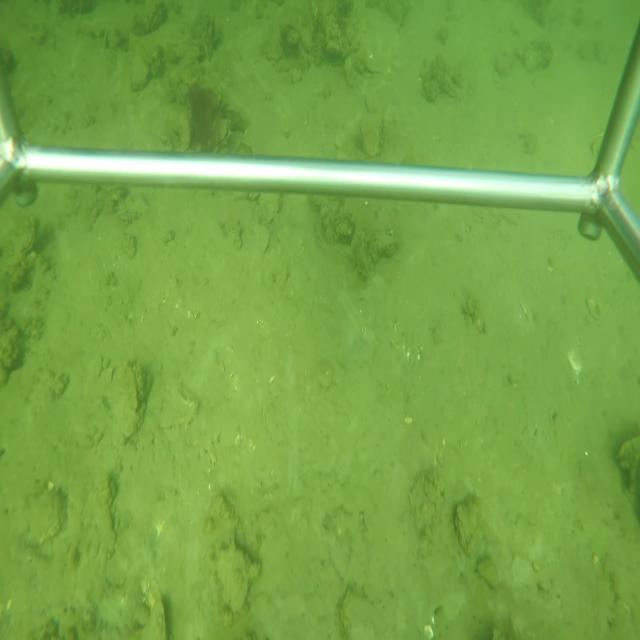Oyster-Closed: (451, 493, 484, 561), (358, 108, 386, 159)
Oyster-Indeterminate: (215, 545, 253, 618), (118, 363, 148, 441)
Oyster-Open: (216, 118, 232, 149)
